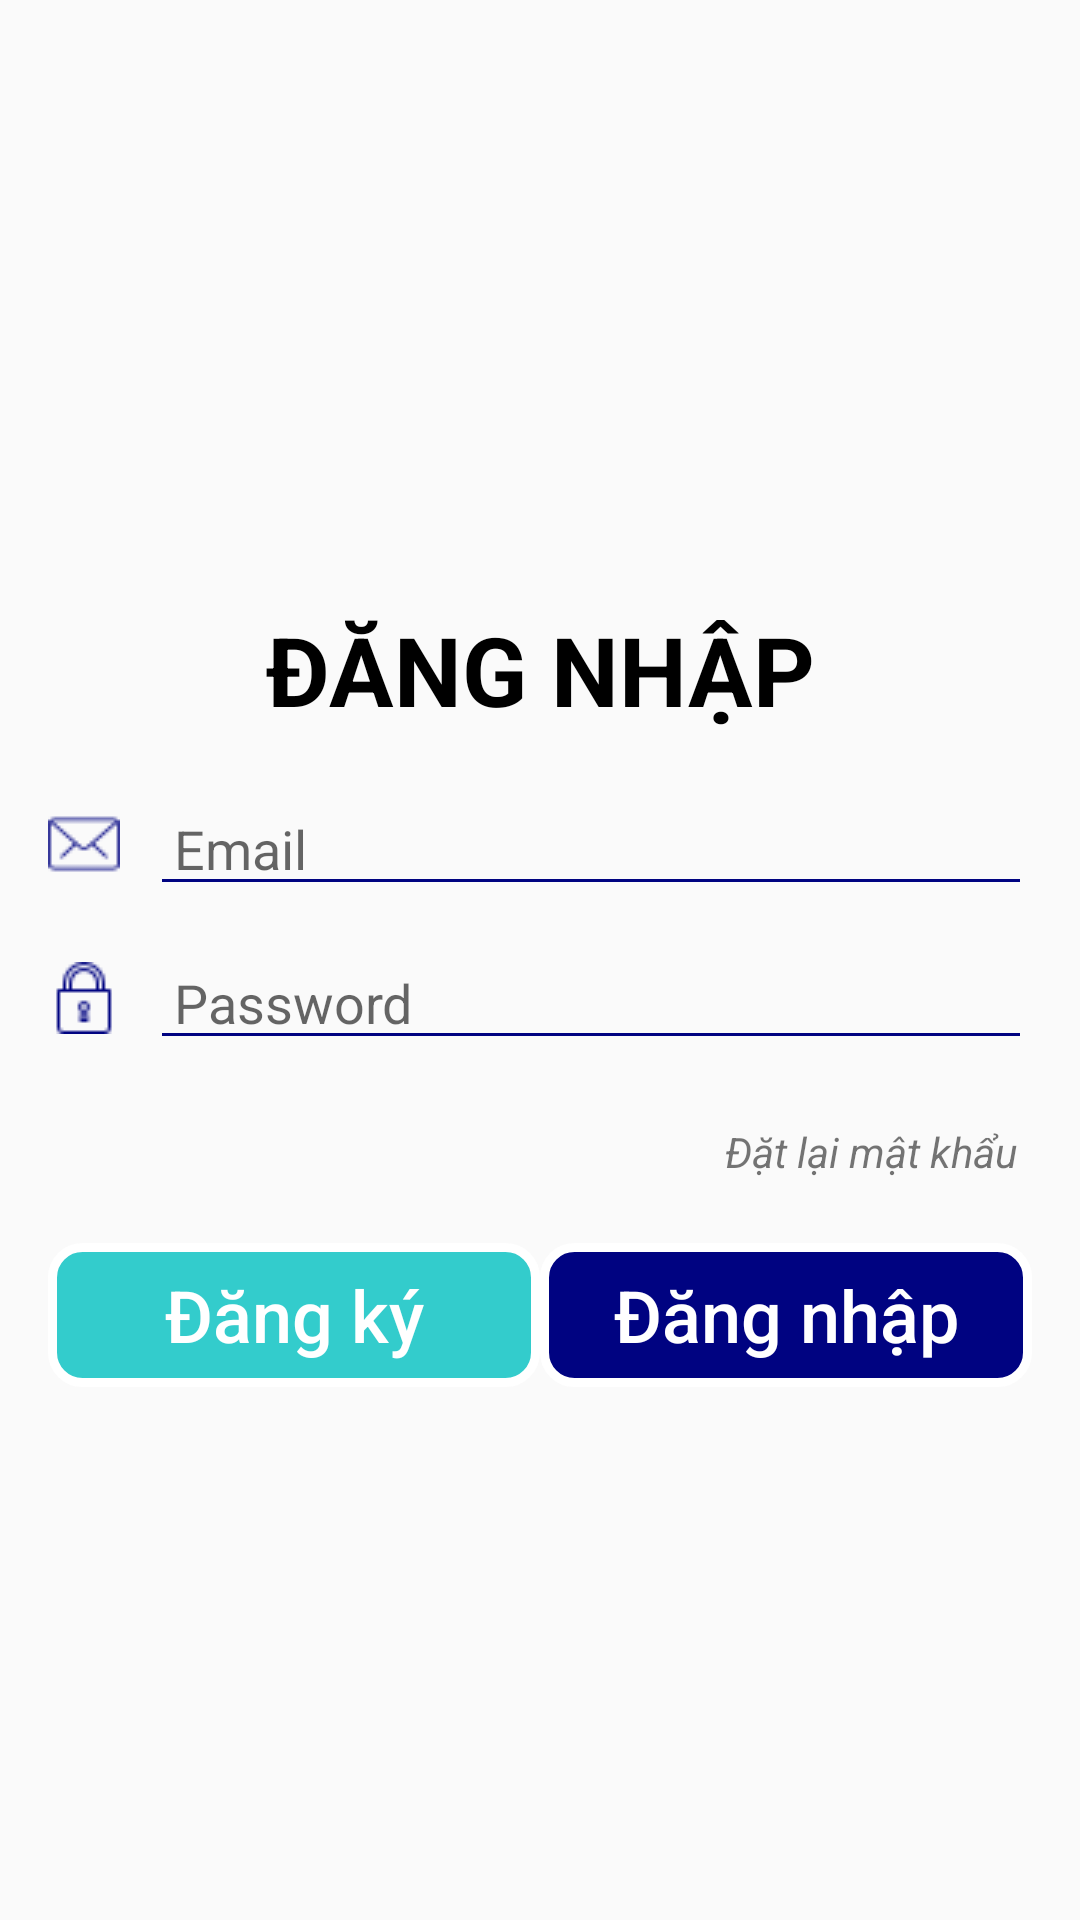

Where icons sit on this 1080w x 1920h app screen, as (x1, y1, x2, y2):
lock: (56, 962, 112, 1034)
